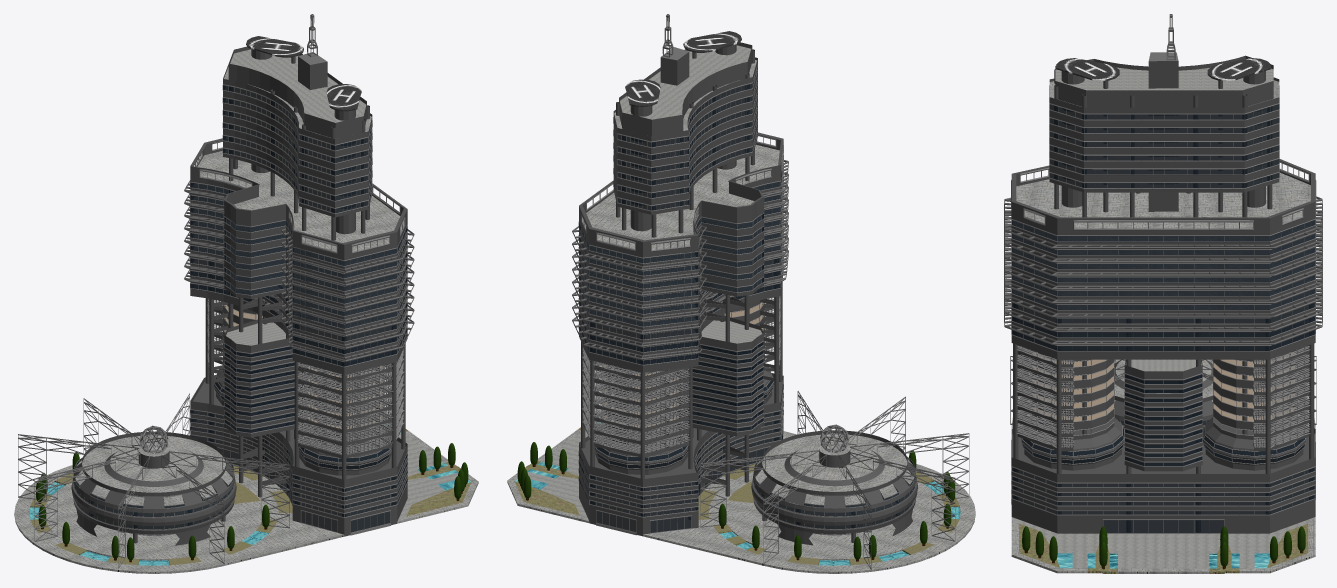
File: modern_structural_tower.glb
The picture shows the model from 3 angles, left to right: view 1: azimuth 30°, elevation 25°; view 2: azimuth 150°, elevation 25°; view 3: azimuth 270°, elevation 25°; orthographic projection. The views are drawn at different scales.
Parts seen in each view (by area): view 1: main hull_0, cant screen_6, screen wall_4, aestetic support_8, columns_1, structure 1_2, cant support_3, landscape_10, helipad_5, dome feature_9; view 2: main hull_0, cant screen_6, screen wall_4, aestetic support_8, columns_1, structure 1_2, cant support_3, landscape_10, helipad_5, dome feature_9; view 3: main hull_0, structure 1_2, cant screen_6, screen wall_4, columns_1, cant support_3, helipad_5, landscape_10, spire top_7, aestetic support_8.
Part boxes in pixels (x1=…): main hull_0: x1=14, y1=46, x2=478, y2=573; cant screen_6: x1=184, y1=180, x2=414, y2=361; screen wall_4: x1=207, y1=298, x2=404, y2=454; aestetic support_8: x1=18, y1=393, x2=289, y2=568; columns_1: x1=90, y1=56, x2=405, y2=543; structure 1_2: x1=214, y1=49, x2=391, y2=475; cant support_3: x1=208, y1=299, x2=403, y2=458; landscape_10: x1=36, y1=419, x2=468, y2=562; helipad_5: x1=246, y1=36, x2=361, y2=111; dome feature_9: x1=139, y1=425, x2=168, y2=453; main hull_0: x1=507, y1=42, x2=975, y2=573; cant screen_6: x1=572, y1=160, x2=788, y2=359; screen wall_4: x1=582, y1=296, x2=780, y2=453; aestetic support_8: x1=700, y1=391, x2=969, y2=569; columns_1: x1=581, y1=49, x2=899, y2=542; structure 1_2: x1=595, y1=44, x2=774, y2=474; cant support_3: x1=583, y1=296, x2=779, y2=457; landscape_10: x1=517, y1=417, x2=955, y2=561; helipad_5: x1=625, y1=31, x2=741, y2=106; dome feature_9: x1=820, y1=424, x2=849, y2=452; main hull_0: x1=1011, y1=55, x2=1316, y2=573; structure 1_2: x1=1021, y1=71, x2=1305, y2=470; cant screen_6: x1=1004, y1=196, x2=1322, y2=344; screen wall_4: x1=1017, y1=345, x2=1310, y2=447; columns_1: x1=1013, y1=69, x2=1314, y2=531; cant support_3: x1=1017, y1=345, x2=1309, y2=451; helipad_5: x1=1056, y1=58, x2=1270, y2=81; landscape_10: x1=1022, y1=526, x2=1305, y2=569; spire top_7: x1=1149, y1=14, x2=1178, y2=61; aestetic support_8: x1=1010, y1=356, x2=1316, y2=424.
Size of the model in its own units: 32.95 by 36.46 by 21.08.
11 materials, 4 textured.
